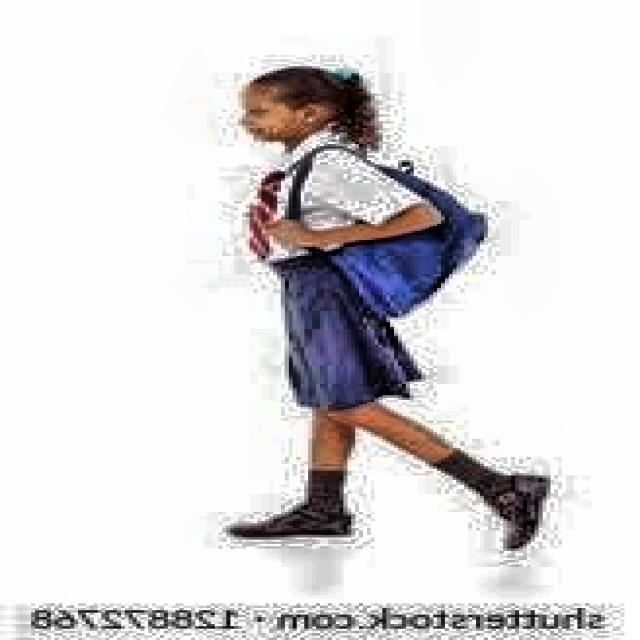Human: (199, 52, 576, 616)
